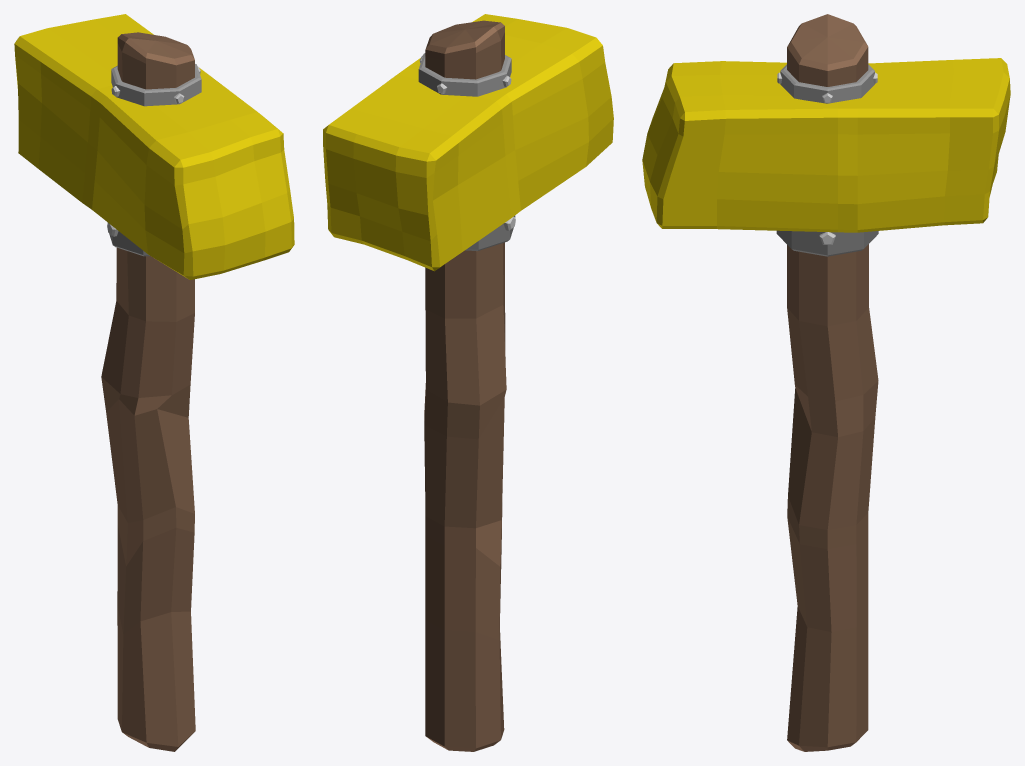
Rendered from Hammer1_Gold.fbx.
3 renders of one model, left to right at view 1: azimuth 30°, elevation 25°; view 2: azimuth 150°, elevation 25°; view 3: azimuth 270°, elevation 25°, orthographic. The views are drawn at different scales.
Visible parts, largest first — view 1: Hammer1_Gold; view 2: Hammer1_Gold; view 3: Hammer1_Gold.
Boxes of the visible parts, box(x1,y1,x2,y2) form: Hammer1_Gold: box(14, 14, 294, 751); Hammer1_Gold: box(323, 14, 613, 751); Hammer1_Gold: box(642, 14, 1010, 751).
Bounding box in the file's own units: 12.57 × 64.18 × 29.77.
